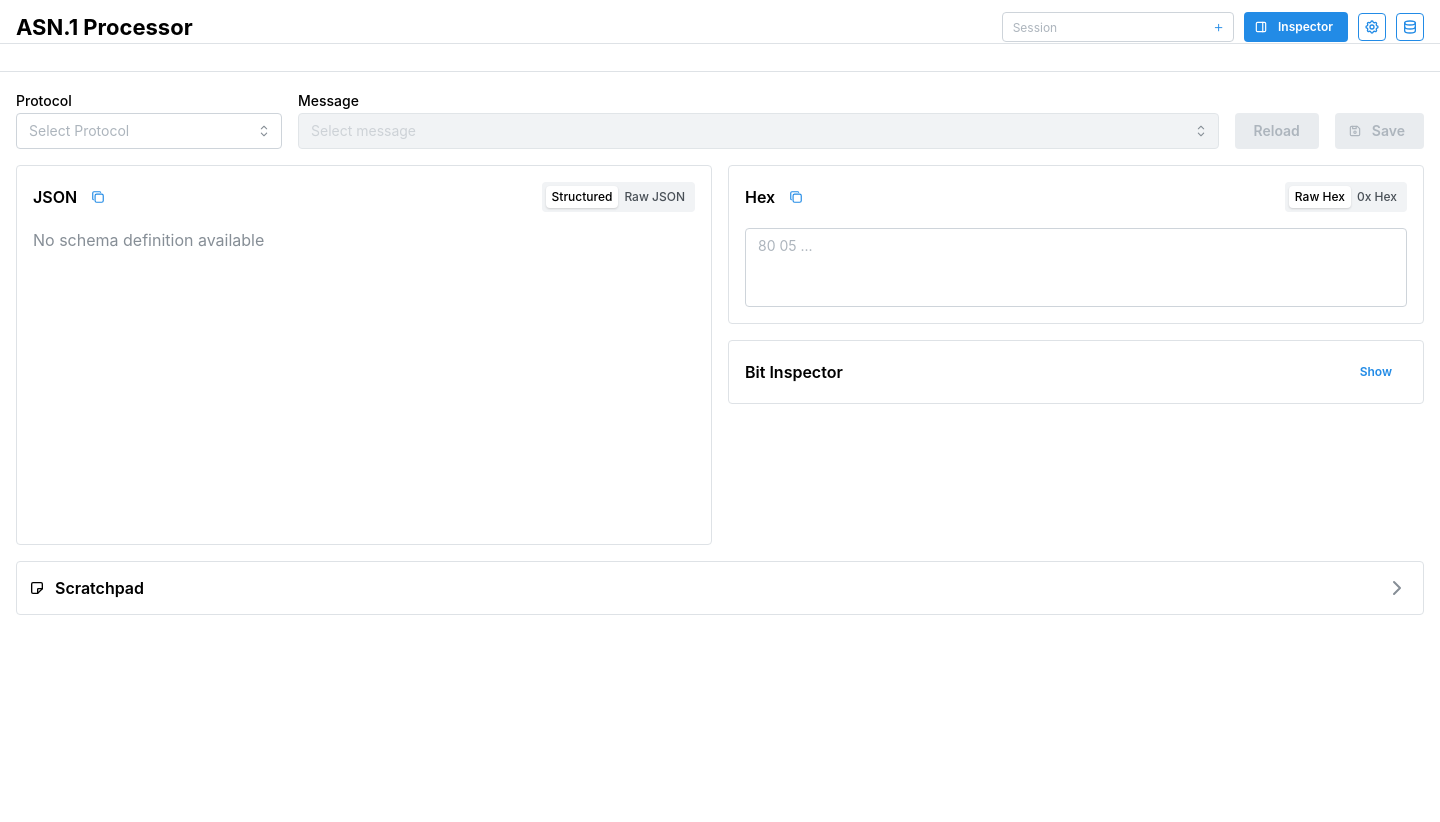
App View › toggles inspector
Check: the text "Bit Inspector" is shown, box [745,360,843,385]
Click the button with aria-label "Toggle Inspector": x=1296, y=27 [1244,12,1348,42]
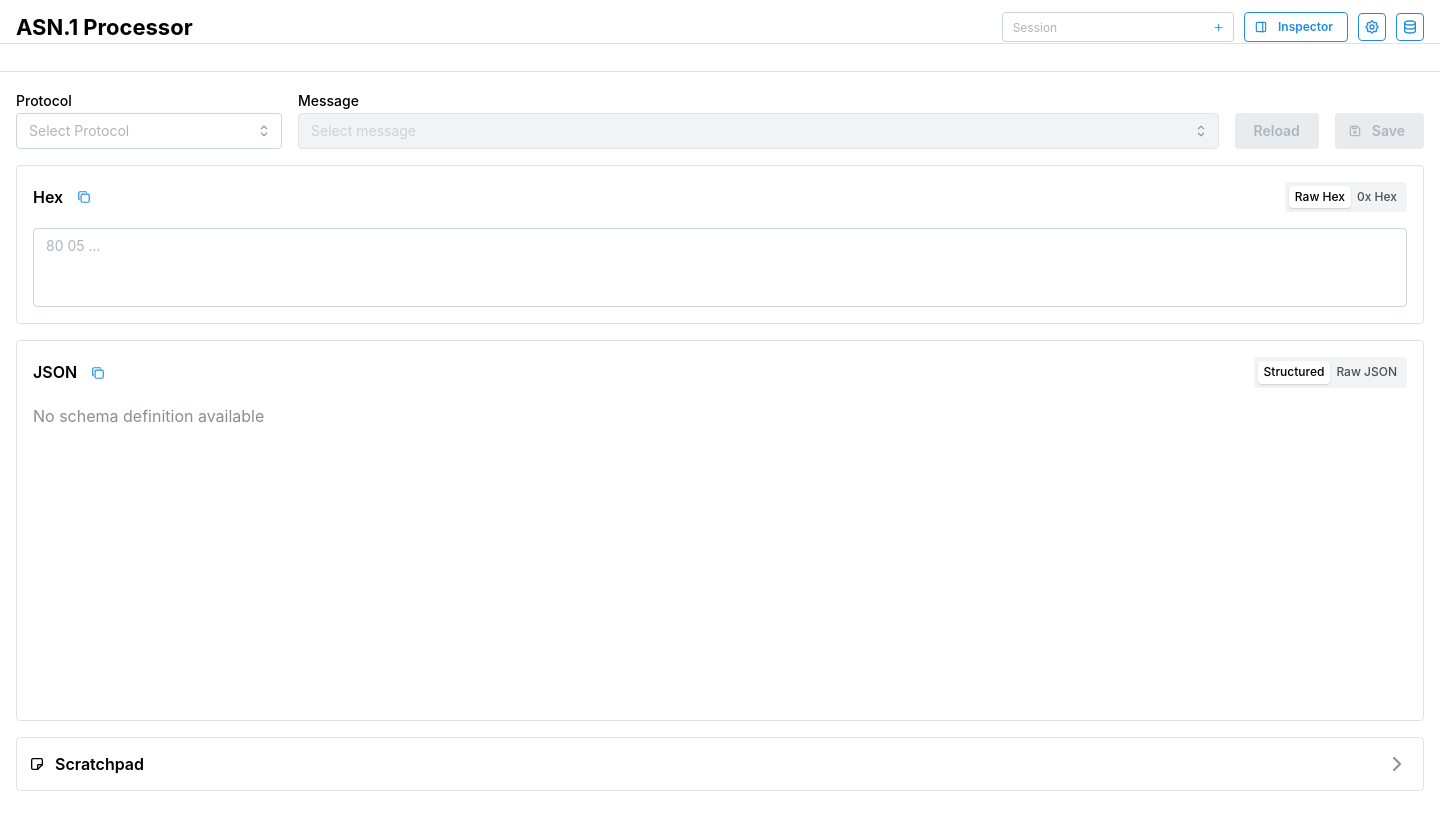
Check: the text "Bit Inspector" is gone
